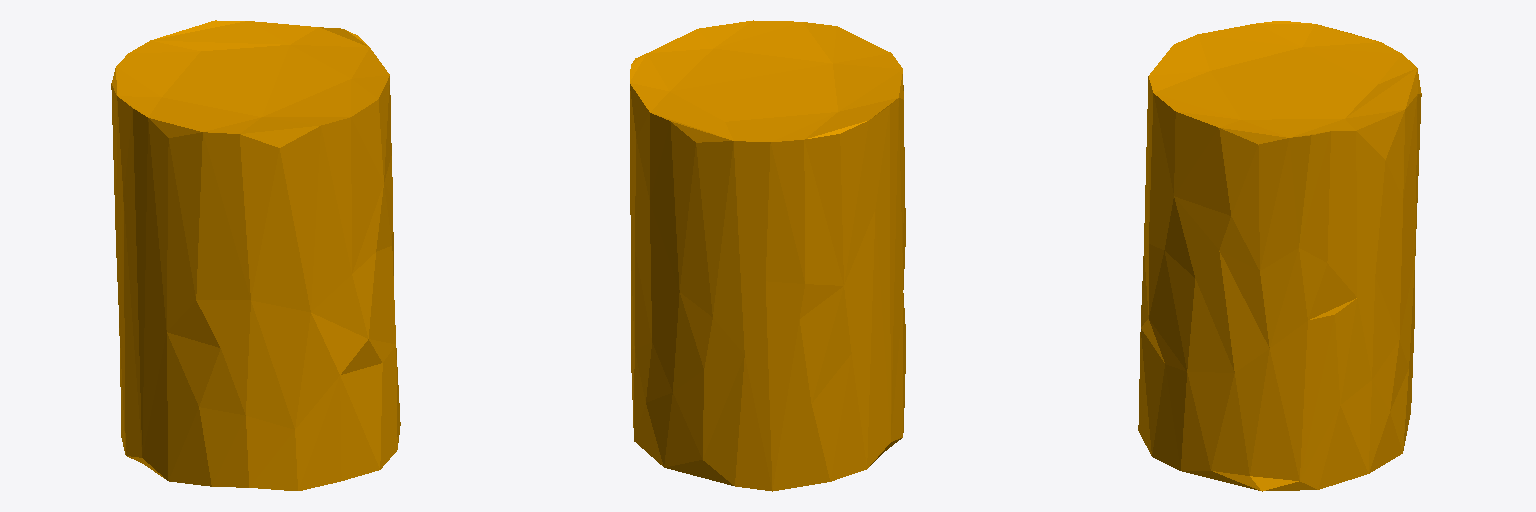
URDF robot description (ChoppedTomatoes_800_tex):
<?xml version="1.0"?>
<robot name="ChoppedTomatoes_800_tex">
  <link name="base_link">
    <contact>
      <lateral_friction value="1.0"/>
      <rolling_friction value="0.0"/>
      <contact_cfm value="0.0"/>
      <contact_erp value="1.0"/>
    </contact>
    <inertial>
      <mass value="0.0579158656691"/>
      <inertia ixx="1" ixy="0" ixz="0" iyy="1" iyz="0" izz="1"/>
    </inertial>
    <visual>
      <geometry>
        <mesh filename="ChoppedTomatoes_800_tex_visual.obj"/>
      </geometry>
    </visual>
    <collision>
      <geometry>
        <mesh filename="ChoppedTomatoes_800_tex_collision.obj"/>
      </geometry>
    </collision>
  </link>
</robot>

--- Facts derived from the render (not from the file) ---
The picture shows the robot from 3 angles, left to right: view 1: azimuth 30°, elevation 25°; view 2: azimuth 150°, elevation 25°; view 3: azimuth 270°, elevation 25°; orthographic projection.
Model ChoppedTomatoes_800_tex with 1 links and 0 joints (none), rooted at base_link, posed every joint at zero.
Visible links, largest first — view 1: base_link; view 2: base_link; view 3: base_link.
Boxes of the visible links, bbox=[...] form: base_link: bbox=[111, 20, 400, 490]; base_link: bbox=[630, 20, 905, 491]; base_link: bbox=[1138, 21, 1421, 491].
Bounding box of the posed robot: 0.0662 × 0.0662 × 0.0927 m (x, y, z).
1 mesh visuals loaded from 1 distinct referenced files (1 OBJ).